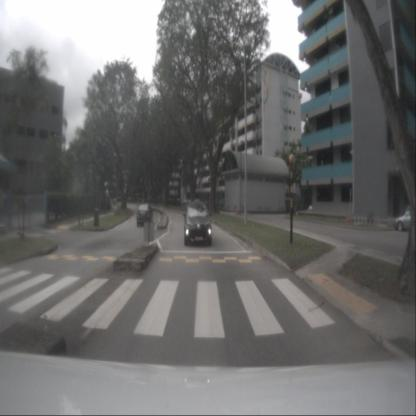vehicle-car: (184, 201, 212, 246), (395, 210, 415, 233), (136, 203, 154, 227)
